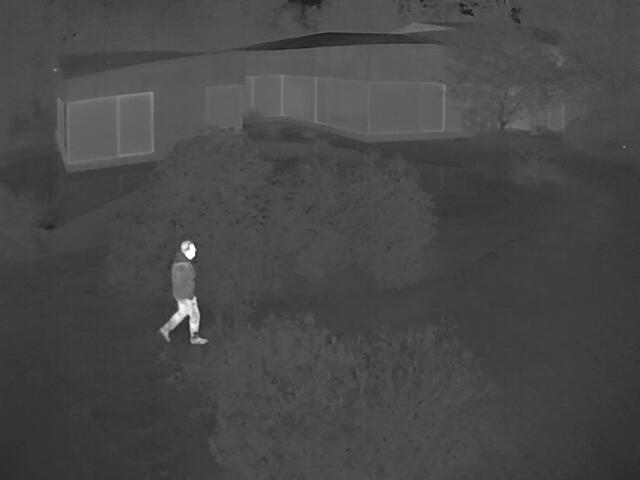person: (159, 239, 206, 343)
